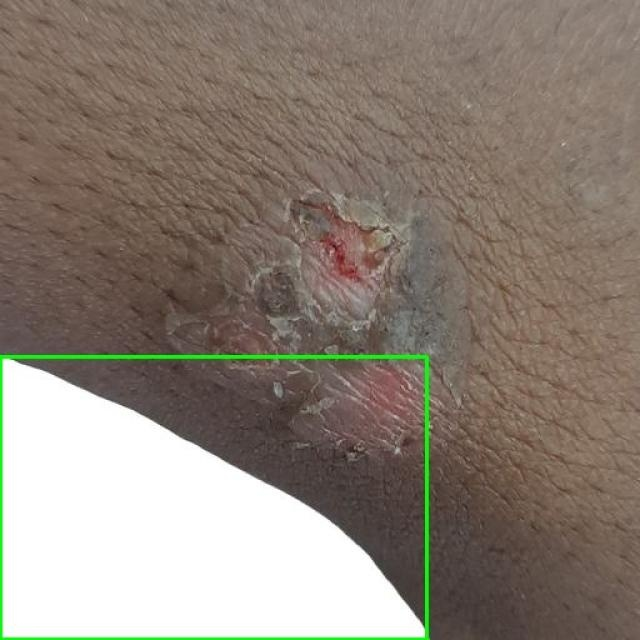Contact Dermatitis: (0, 356, 426, 639)
